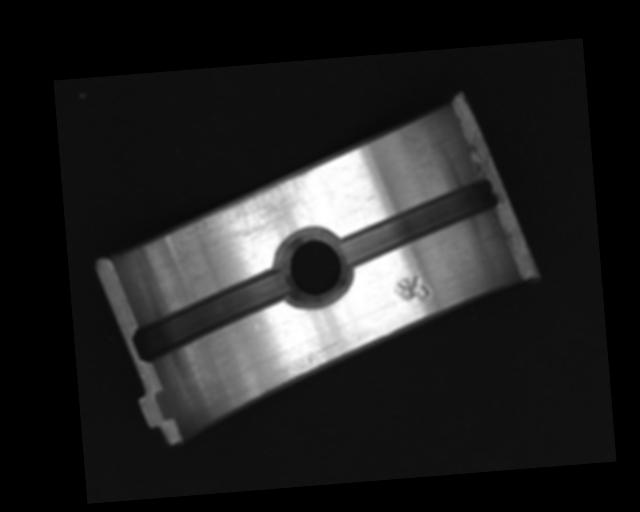bruise: (392, 270, 434, 304)
gap: (127, 267, 298, 363), (338, 179, 502, 266)
hole: (272, 225, 355, 309)
scratch: (178, 165, 325, 240)
